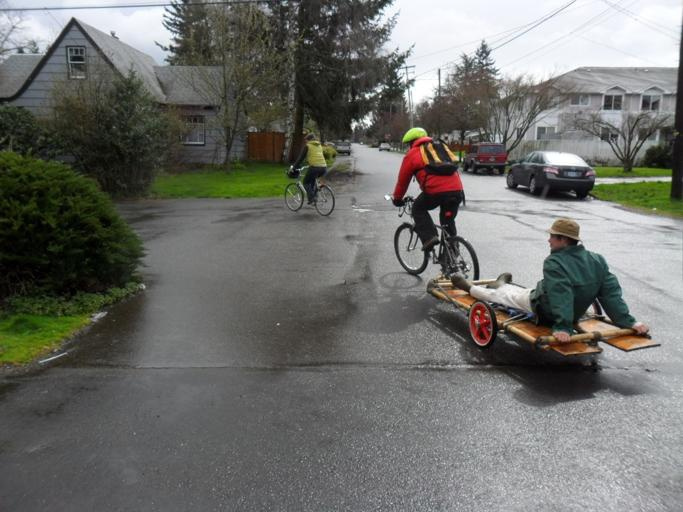non-vehicle: (393, 196, 479, 279), (284, 165, 335, 215)
